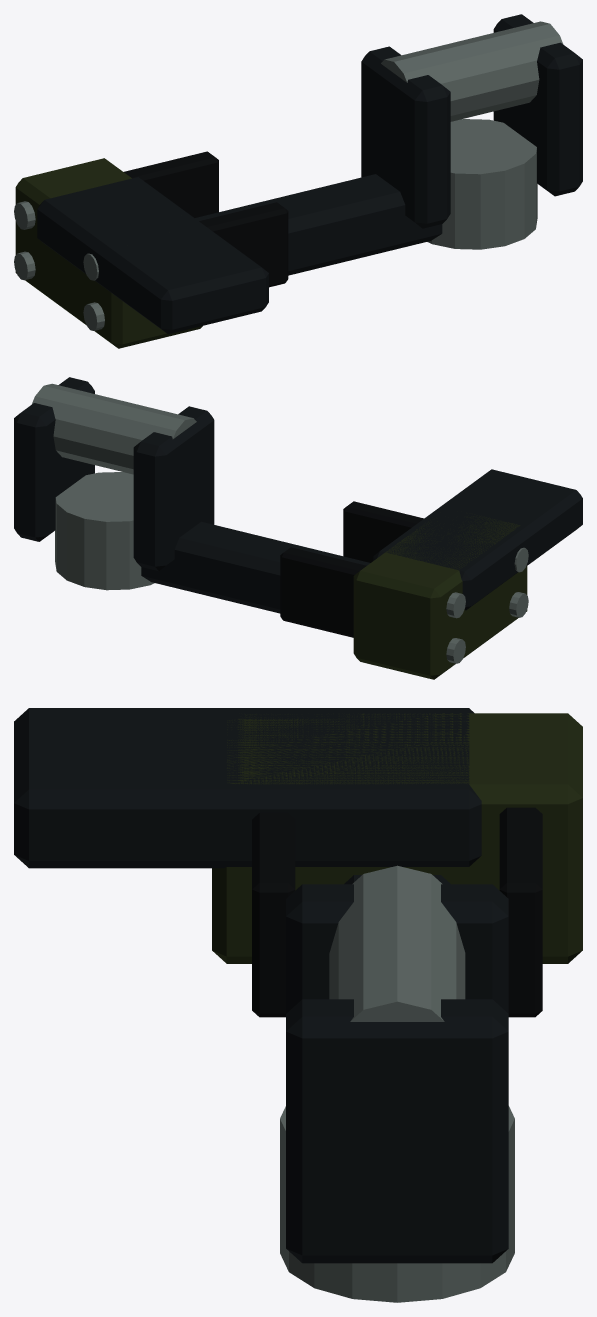
File: DoorMount.obj
3 views of the same model, one above another, from view 1: azimuth 30°, elevation 25°; view 2: azimuth 150°, elevation 25°; view 3: azimuth 270°, elevation 25° (orthographic). The views are drawn at different scales.
Parts seen in each view (by area): view 1: Mount_lug, Yoke_cheek, Yaw_bearing, Outboard_support_arm, Pitch_cross_pin, Cabin_mounting_plate, Yoke_cheek.001, Arm_root_gusset, Arm_root_gusset.001, Cabin_plate_fastener, Cabin_plate_fastener.003, Cabin_plate_fastener.001; view 2: Cabin_mounting_plate, Mount_lug, Yoke_cheek, Yaw_bearing, Outboard_support_arm, Pitch_cross_pin, Yoke_cheek.001, Arm_root_gusset.001, Arm_root_gusset, Cabin_plate_fastener.003, Cabin_plate_fastener, Cabin_plate_fastener.001; view 3: Mount_lug, Yoke_cheek.001, Cabin_mounting_plate, Pitch_cross_pin, Yoke_cheek, Yaw_bearing, Arm_root_gusset.001, Arm_root_gusset.
Boxes of the visible parts, box(x1,y1,x2,y2) form: Mount_lug: box(37, 177, 268, 334); Yoke_cheek: box(361, 46, 450, 228); Yaw_bearing: box(427, 119, 537, 249); Outboard_support_arm: box(195, 174, 442, 275); Pitch_cross_pin: box(381, 21, 562, 121); Cabin_mounting_plate: box(15, 158, 202, 348); Yoke_cheek.001: box(493, 14, 582, 196); Arm_root_gusset: box(199, 202, 288, 287); Arm_root_gusset.001: box(124, 151, 218, 217); Cabin_plate_fastener: box(83, 302, 104, 330); Cabin_plate_fastener.003: box(14, 201, 35, 229); Cabin_plate_fastener.001: box(14, 251, 35, 280); Cabin_mounting_plate: box(353, 514, 527, 679); Mount_lug: box(373, 469, 582, 610); Yoke_cheek: box(133, 406, 214, 570); Yaw_bearing: box(55, 472, 154, 590); Outboard_support_arm: box(141, 521, 370, 613); Pitch_cross_pin: box(31, 383, 196, 474); Yoke_cheek.001: box(14, 377, 94, 541); Arm_root_gusset.001: box(280, 547, 366, 637); Arm_root_gusset: box(343, 501, 423, 562); Cabin_plate_fastener.003: box(446, 592, 465, 618); Cabin_plate_fastener: box(509, 592, 528, 617); Cabin_plate_fastener.001: box(446, 638, 465, 663); Mount_lug: box(14, 708, 481, 868); Yoke_cheek.001: box(286, 999, 508, 1263); Cabin_mounting_plate: box(212, 713, 582, 963); Pitch_cross_pin: box(329, 865, 465, 1021); Yoke_cheek: box(286, 884, 508, 1013); Yaw_bearing: box(280, 1106, 514, 1302); Arm_root_gusset.001: box(499, 807, 542, 1017); Arm_root_gusset: box(252, 812, 295, 1017).
Size of the model in its own units: 0.833 by 0.285 by 0.46.
